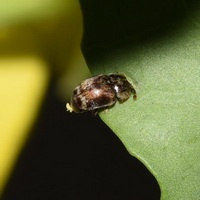insect: (66, 73, 136, 113)
